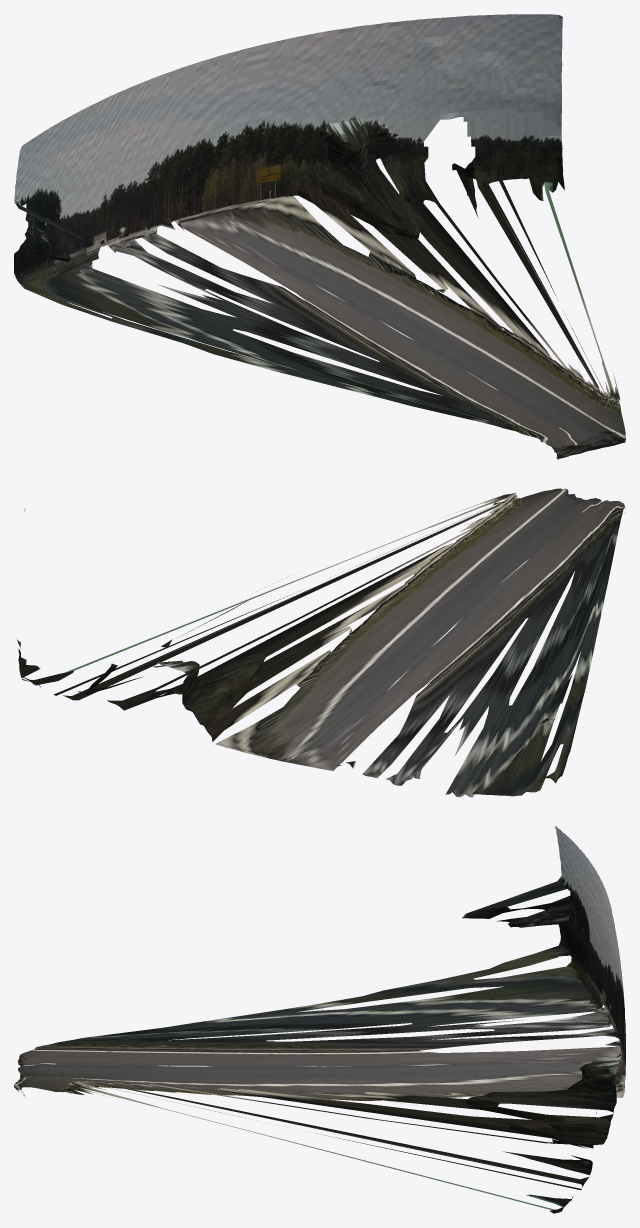
3 views of the same model, one above another, from view 1: azimuth 30°, elevation 25°; view 2: azimuth 150°, elevation 25°; view 3: azimuth 270°, elevation 25° (orthographic). The views are drawn at different scales.
Visible parts, largest first — view 1: defaultobject; view 2: defaultobject; view 3: defaultobject.
Boxes of the visible parts, left/top/right/bottom form: defaultobject: left=14, top=14, right=625, bottom=459; defaultobject: left=16, top=488, right=625, bottom=797; defaultobject: left=14, top=826, right=625, bottom=1213.
Bounding box in the file's own units: 41.05 × 13.19 × 44.36.
1 material, 1 textured.
